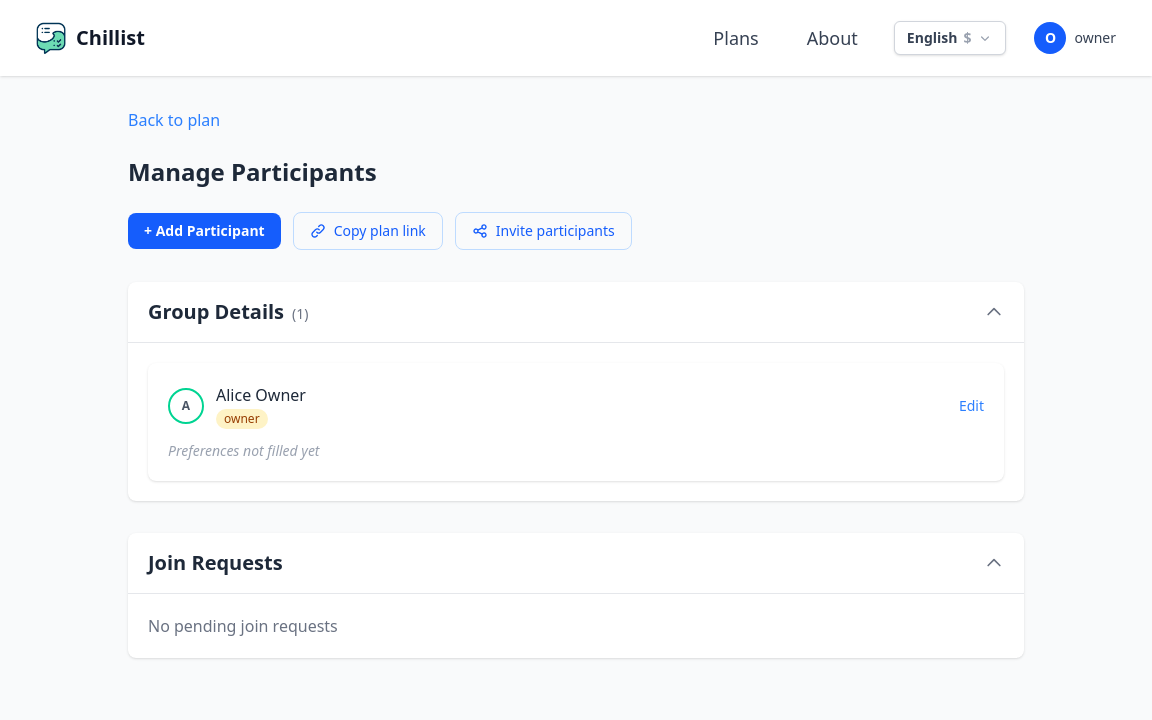
Test: Manage Participants route › shows Add Participant button and opens modal when clicked
The image size is (1152, 720).
Click the button with test id "add-participant-button". click: (204,231)
box: left=128, top=213, right=281, bottom=249
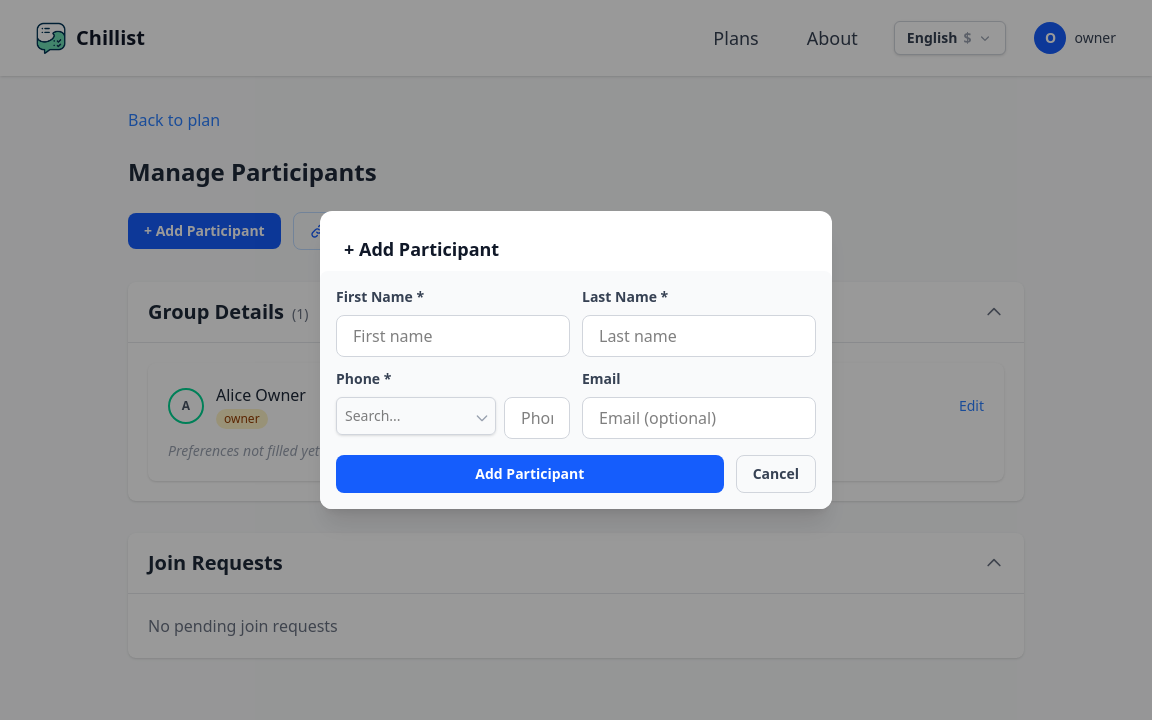
Expected: the field with placeholder "First name" is shown, left=336, top=315, right=570, bottom=357
Expected: the field with placeholder "Last name" is shown, left=582, top=315, right=816, bottom=357
